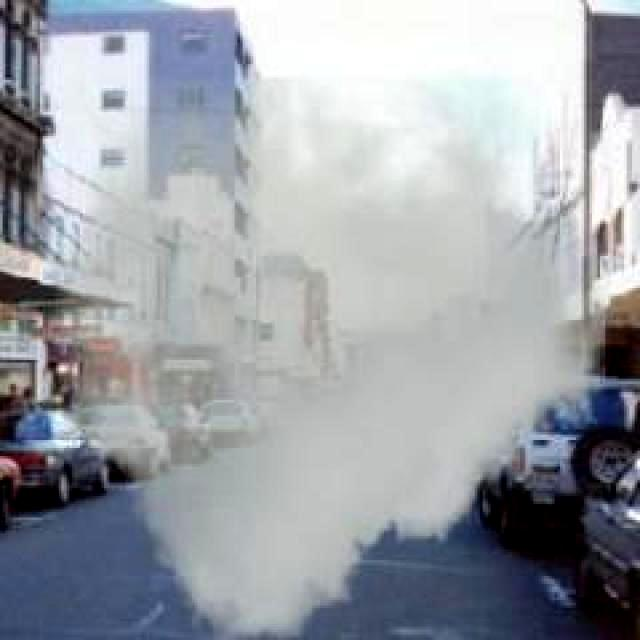no_helmet: (55, 78, 610, 638)
